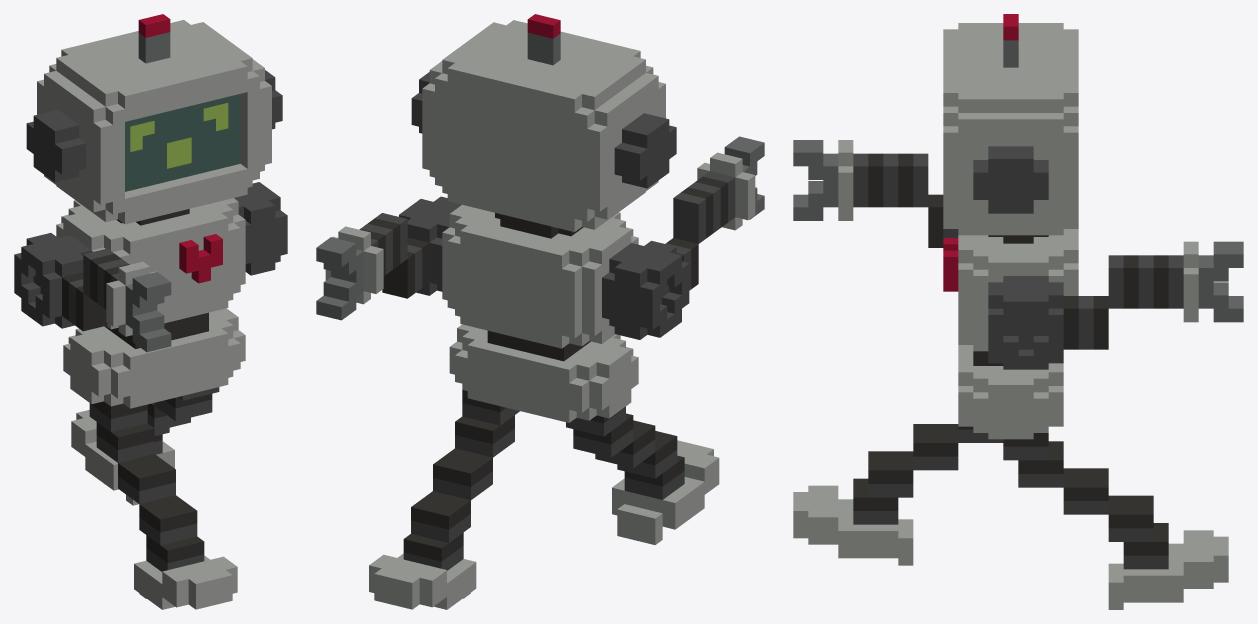
File: player_main_jump-air.fbx
3 views of the same model, side by side, from view 1: azimuth 30°, elevation 25°; view 2: azimuth 150°, elevation 25°; view 3: azimuth 270°, elevation 25° (orthographic). The views are drawn at different scales.
Visible parts, largest first — view 1: model_1; view 2: model_1; view 3: model_1.
Part boxes in pixels (x1,y1,x2,y2): model_1: (14, 14, 287, 609); model_1: (316, 14, 764, 609); model_1: (793, 14, 1243, 609).
Size of the model in its own units: 200 by 300 by 410.
